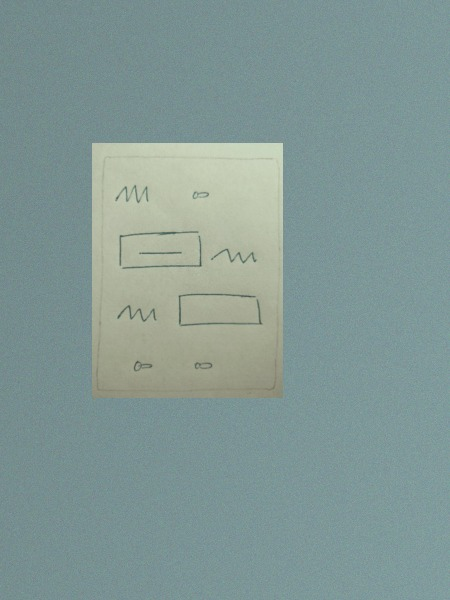button: (115, 226, 209, 273)
switch: (184, 354, 224, 374), (127, 354, 158, 375), (187, 185, 215, 205)
text: (111, 298, 159, 327), (207, 244, 262, 267), (111, 180, 156, 208)
text_input: (173, 288, 268, 331)
